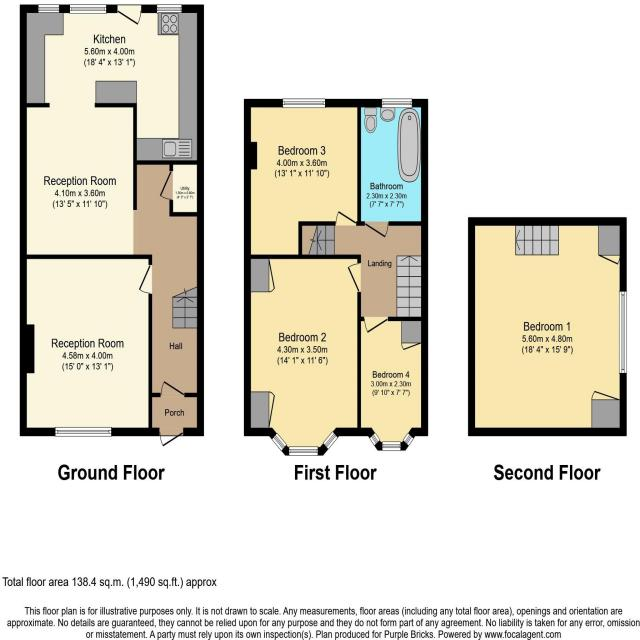DOOR: (156, 428, 185, 450), (159, 378, 188, 397), (117, 4, 142, 26), (363, 316, 388, 334), (347, 262, 361, 293), (138, 264, 152, 295), (364, 221, 389, 238), (335, 210, 357, 226)
ROOM: (20, 4, 204, 259), (468, 217, 627, 437), (20, 254, 152, 436), (244, 254, 361, 457), (244, 98, 361, 259), (357, 316, 428, 451)
WINDOW: (619, 290, 627, 374), (54, 427, 112, 437), (282, 98, 326, 108), (69, 4, 107, 14), (271, 432, 288, 452), (322, 430, 338, 451), (381, 98, 412, 108), (288, 446, 318, 456), (157, 4, 182, 14), (38, 4, 60, 13), (382, 441, 401, 451), (369, 432, 381, 447), (402, 432, 414, 447)
